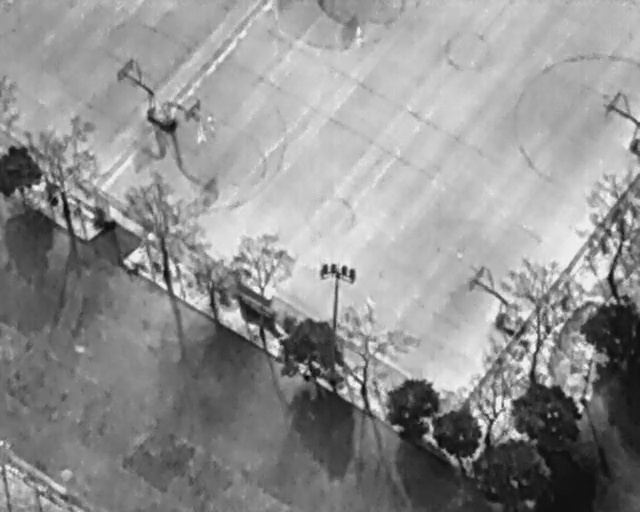Person: (196, 120, 206, 145), (207, 113, 215, 137), (356, 23, 363, 48)
